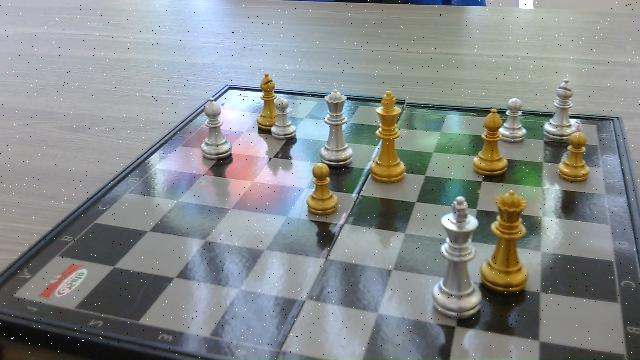black_bishop: (472, 109, 505, 176), (254, 73, 276, 128)
black_king: (370, 90, 406, 184)
black_pawn: (305, 164, 339, 216), (559, 130, 590, 183)
black_queen: (480, 191, 530, 292)
white_bishop: (542, 79, 577, 141), (199, 96, 231, 160)
white_king: (432, 195, 480, 317)
white_pawn: (500, 97, 526, 143), (272, 96, 295, 138)
white_queen: (321, 89, 353, 165)
